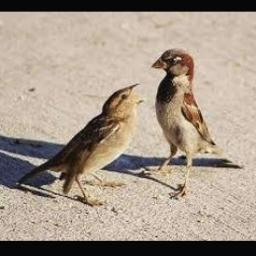Sparrow: (16, 82, 144, 207), (142, 48, 240, 200)
